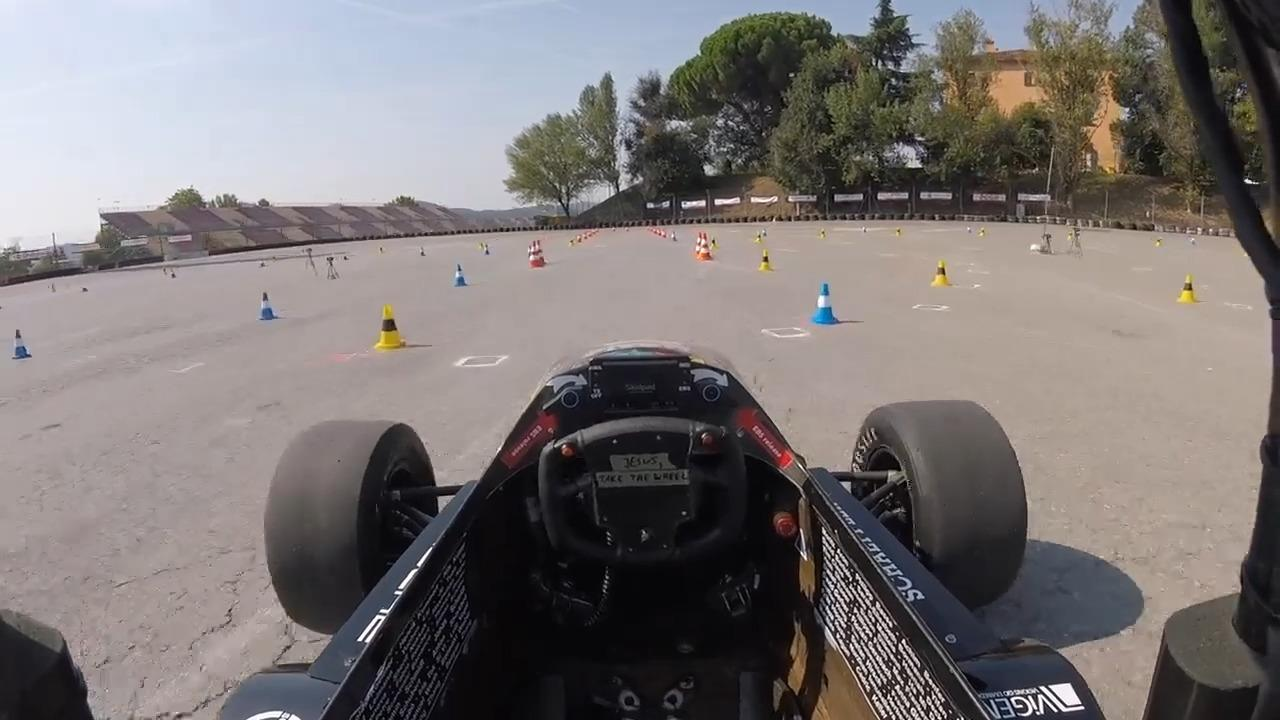blue_cone: (809, 282, 841, 324), (257, 291, 279, 321), (12, 327, 32, 360), (452, 262, 469, 287)
large_orange_cone: (697, 232, 712, 261), (528, 240, 542, 268), (532, 239, 546, 266), (693, 232, 707, 258)
yellow_cone: (372, 305, 403, 350), (1177, 274, 1198, 304), (930, 259, 951, 288), (758, 248, 774, 272), (710, 235, 718, 250)
